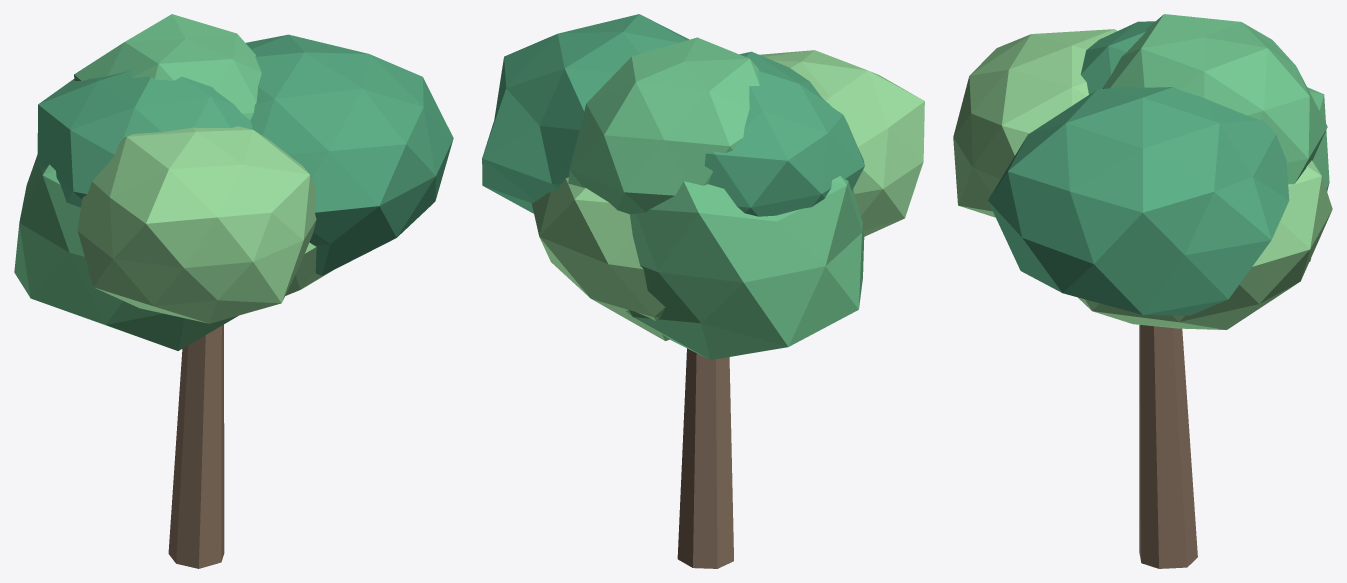
File: Tree_Large_A.glb
3 renders of one model, left to right at view 1: azimuth 30°, elevation 25°; view 2: azimuth 150°, elevation 25°; view 3: azimuth 270°, elevation 25°, orthographic. The views are drawn at different scales.
Visible parts, largest first — view 1: Tree_Large_A; view 2: Tree_Large_A; view 3: Tree_Large_A.
Part boxes in pixels (box(x1,y1,x2,y2)): Tree_Large_A: box(14, 14, 453, 568); Tree_Large_A: box(482, 14, 924, 568); Tree_Large_A: box(953, 14, 1332, 568).
Size of the model in its own units: 7.11 by 9.01 by 5.92.
